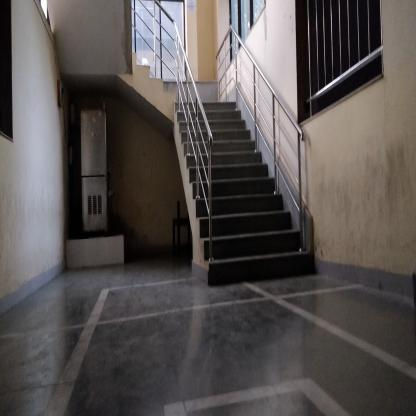stairs: (213, 195, 287, 293)
